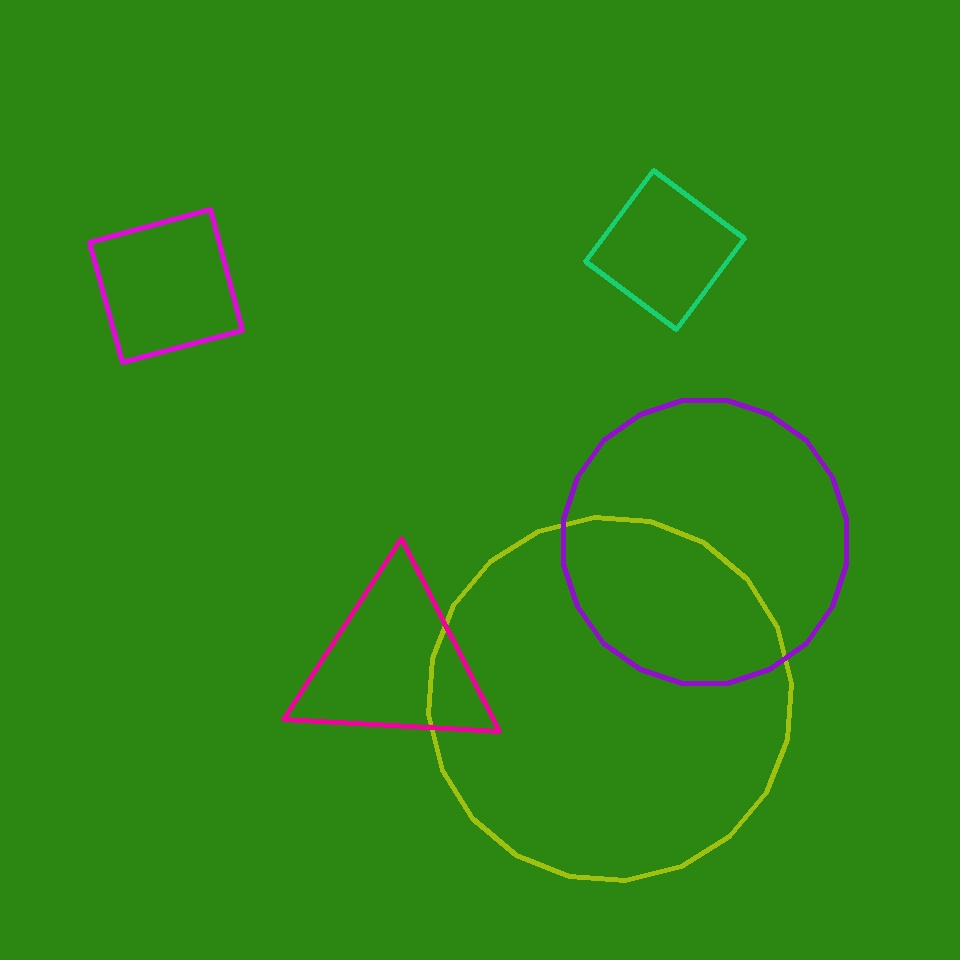circle: (287, 566, 503, 760)
square: (586, 170, 744, 330), (90, 210, 242, 362)
triangle: (428, 518, 792, 880), (564, 400, 846, 684)
